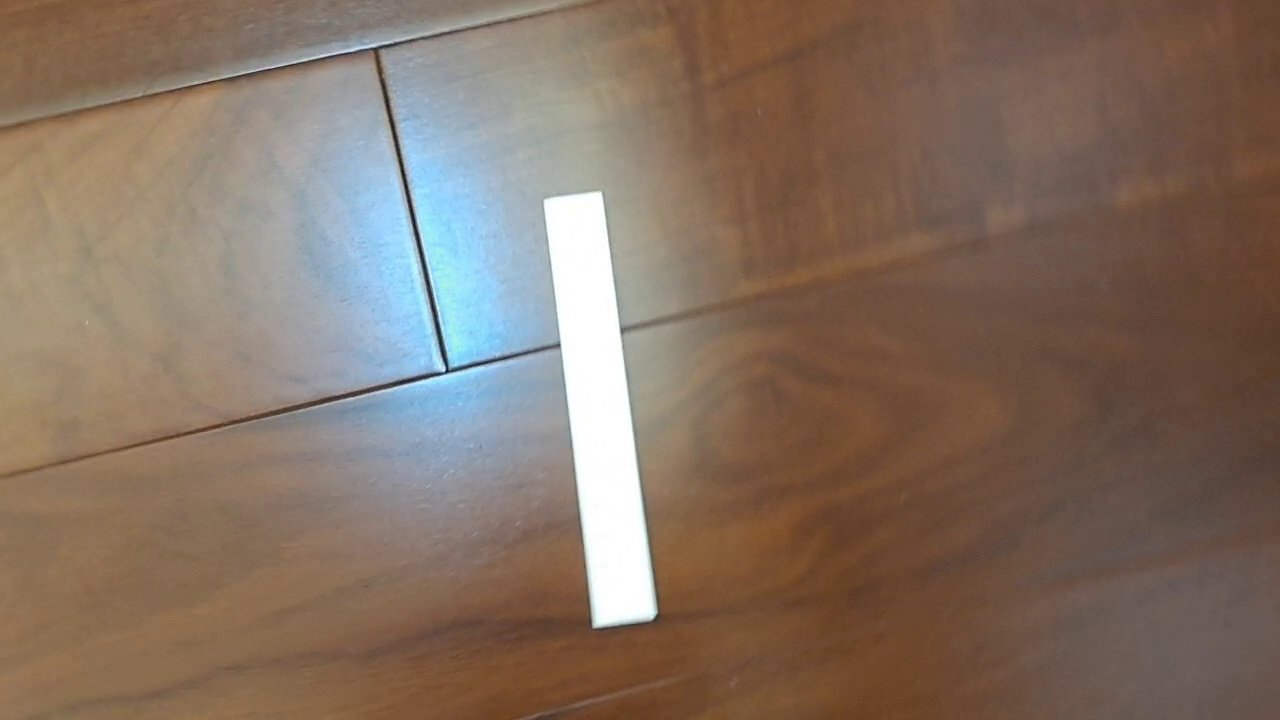ruler: (541, 189, 660, 632)
